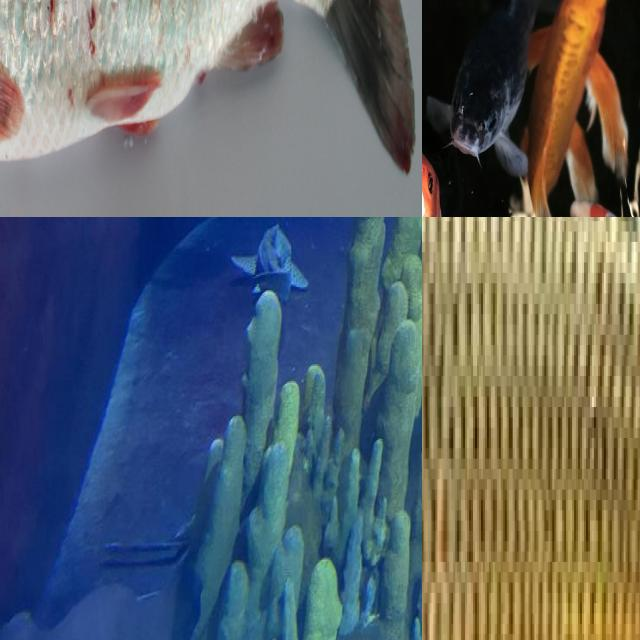fish: (422, 217, 640, 640), (0, 0, 422, 217), (422, 0, 640, 136)
